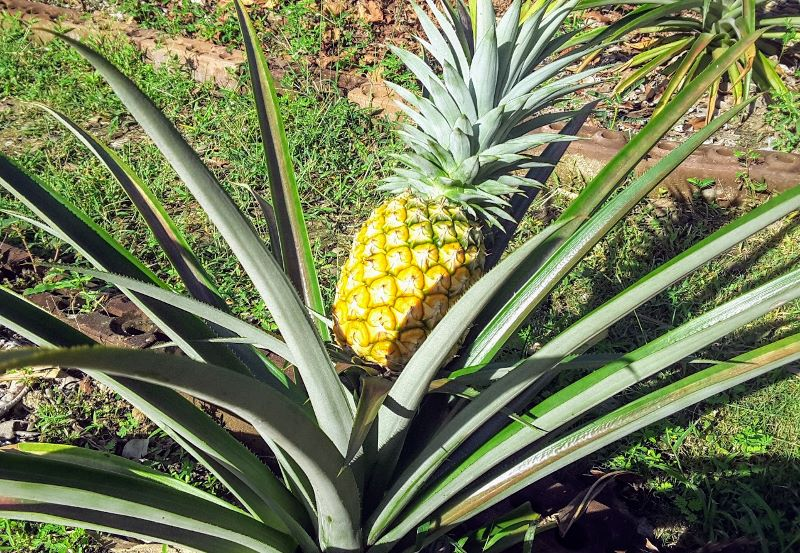pineapple: (348, 4, 577, 388)
